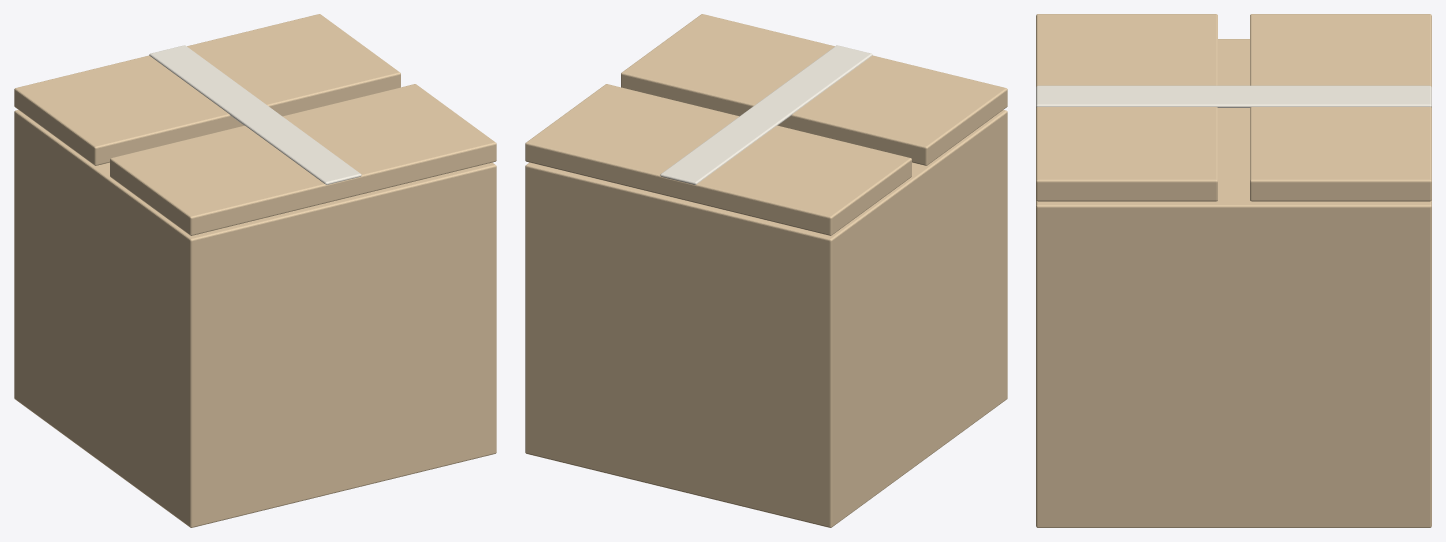
The model's file is CardboardBox.fbx.
3 views of the same model, side by side, from view 1: azimuth 30°, elevation 25°; view 2: azimuth 150°, elevation 25°; view 3: azimuth 270°, elevation 25° (orthographic). The views are drawn at different scales.
Parts seen in each view (by area): view 1: CardboardBox; view 2: CardboardBox; view 3: CardboardBox.
Boxes of the visible parts, x1=… form: CardboardBox: x1=14, y1=14, x2=496, y2=527; CardboardBox: x1=525, y1=14, x2=1007, y2=527; CardboardBox: x1=1036, y1=14, x2=1431, y2=527.
Size of the model in its own units: 0.5 by 0.4875 by 0.5.
